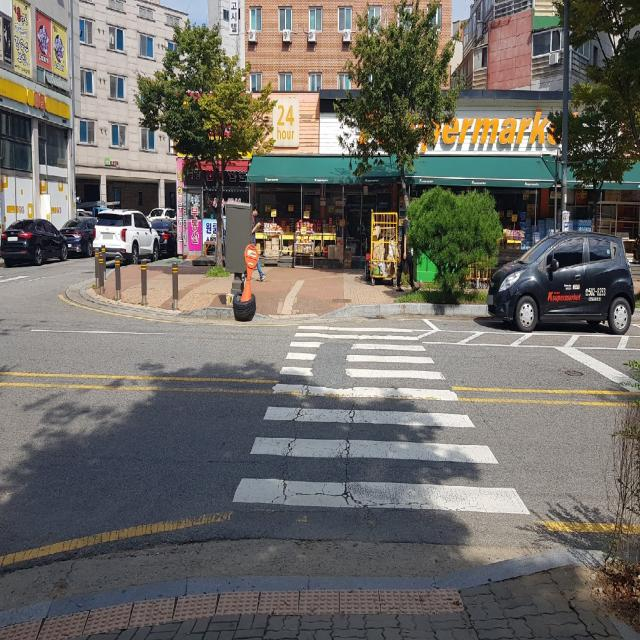횡단보도: (232, 325, 530, 516)
